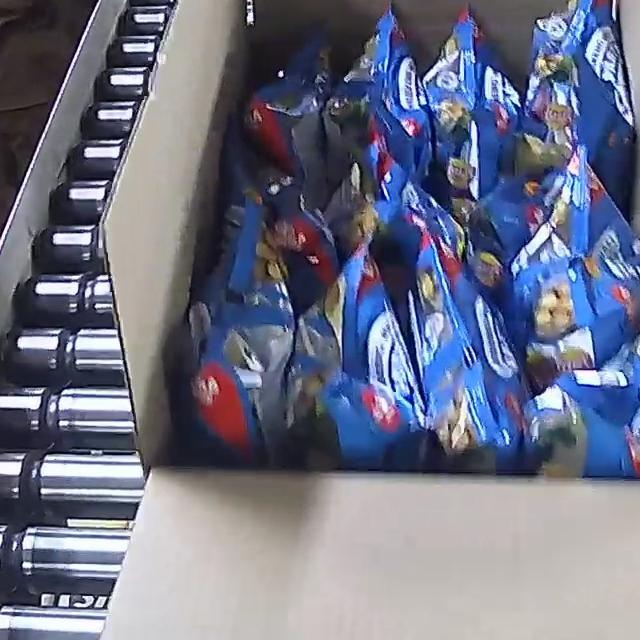paprika: (176, 0, 640, 480)
